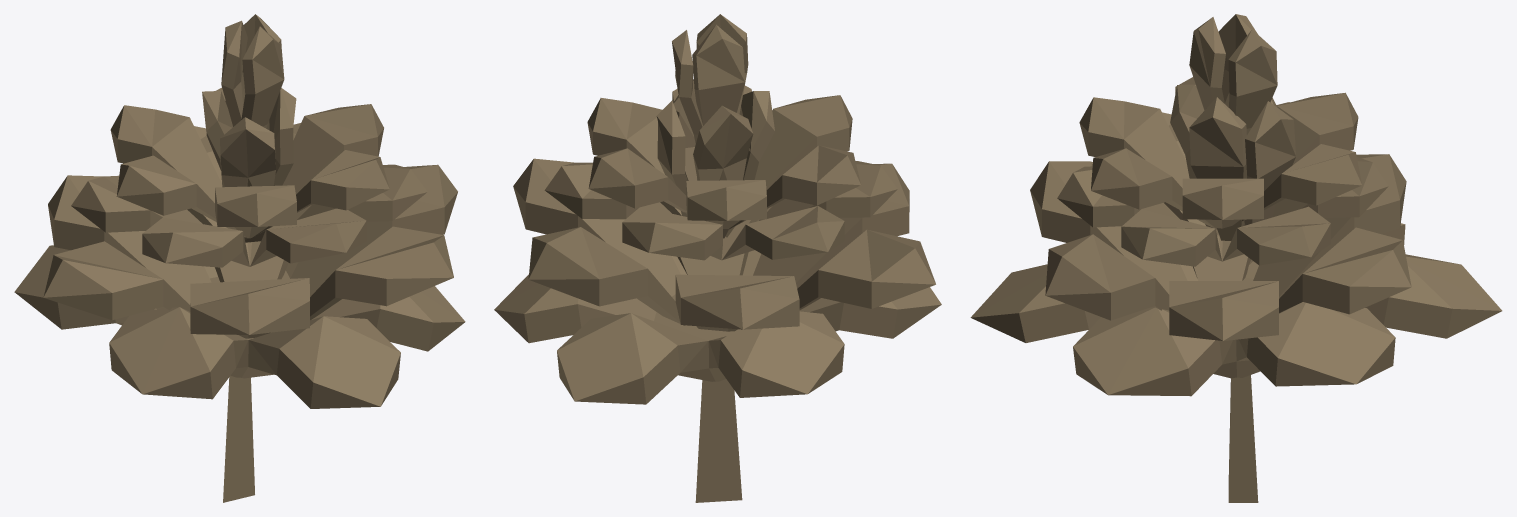
Rendered from Pinecone.fbx.
The picture shows the model from 3 angles, left to right: view 1: azimuth 30°, elevation 25°; view 2: azimuth 150°, elevation 25°; view 3: azimuth 270°, elevation 25°; orthographic projection. The views are drawn at different scales.
Parts seen in each view (by area): view 1: pinecone2; view 2: pinecone2; view 3: pinecone2.
Part boxes in pixels (box(x1,y1,x2,y2)): pinecone2: box(14, 14, 465, 502); pinecone2: box(494, 14, 941, 502); pinecone2: box(970, 14, 1502, 502).
Bounding box in the file's own units: 18.72 × 20.26 × 20.15.
